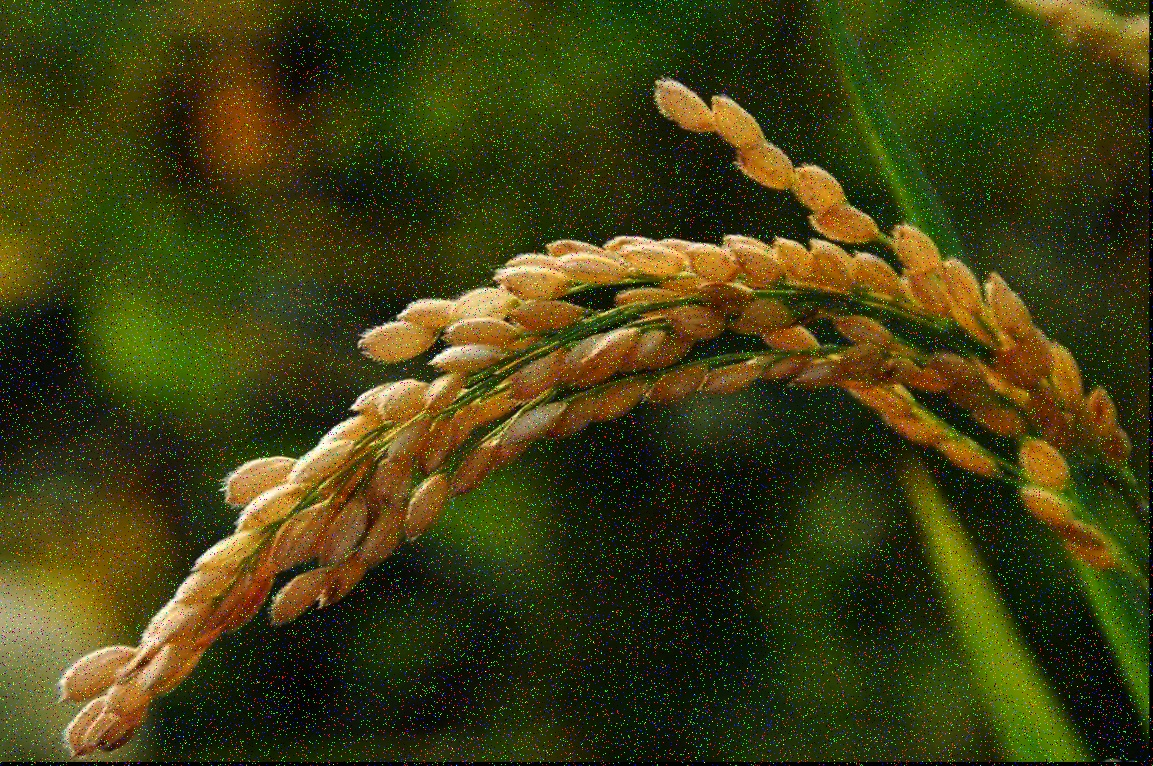rice: (48, 19, 1128, 760)
